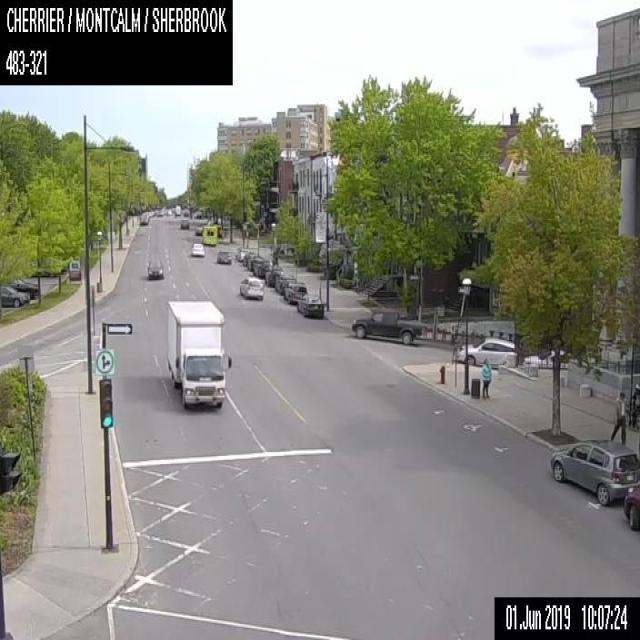pedestrian: (609, 390, 626, 442), (480, 359, 490, 397)
vehicle: (165, 298, 232, 410), (550, 437, 639, 505), (351, 308, 421, 344), (457, 336, 515, 367), (623, 479, 639, 530), (0, 285, 29, 307), (296, 293, 322, 317), (239, 276, 263, 300), (282, 281, 307, 304), (8, 279, 36, 298), (274, 274, 296, 295), (264, 266, 284, 286), (252, 256, 271, 276), (146, 259, 163, 279), (202, 224, 216, 245), (215, 248, 231, 263), (241, 249, 255, 265), (236, 247, 248, 261), (246, 254, 257, 268), (191, 243, 202, 256), (138, 213, 149, 224), (180, 218, 188, 228), (216, 224, 222, 236), (194, 227, 202, 234), (175, 204, 180, 215), (182, 208, 188, 216), (156, 210, 162, 216)
